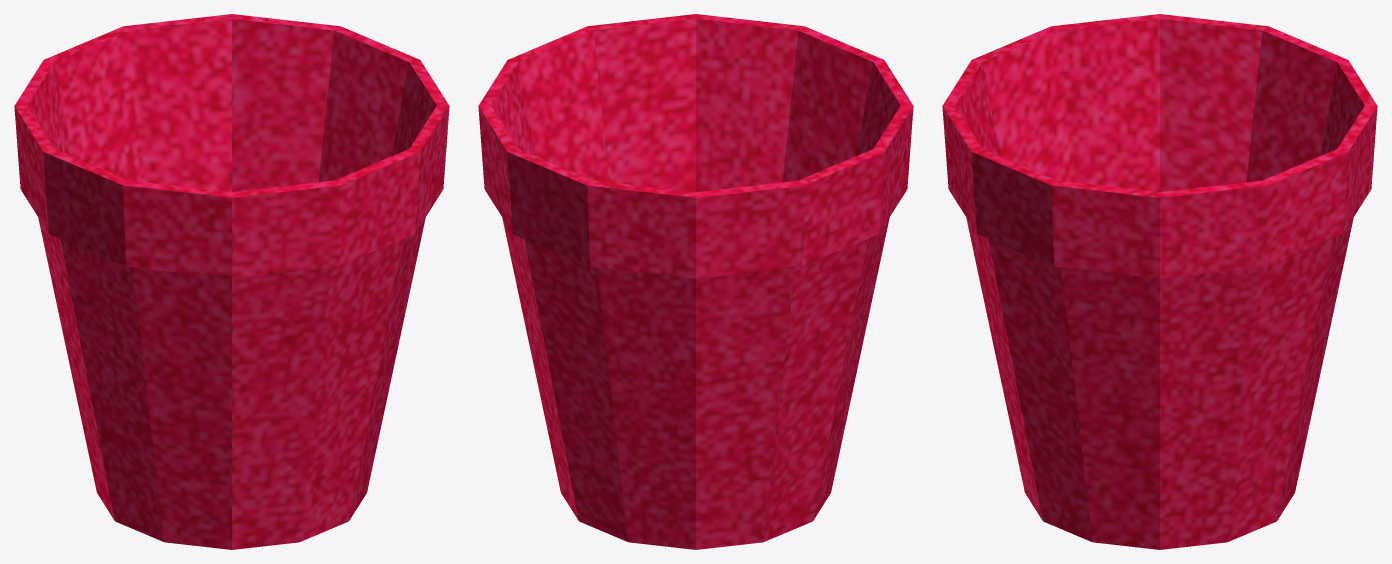
Rendered from Bucket.fbx.
3 renders of one model, left to right at view 1: azimuth 30°, elevation 25°; view 2: azimuth 150°, elevation 25°; view 3: azimuth 270°, elevation 25°, orthographic.
Parts seen in each view (by area): view 1: Bucket; view 2: Bucket; view 3: Bucket.
Boxes of the visible parts, bbox=[...] form: Bucket: bbox=[14, 14, 449, 549]; Bucket: bbox=[478, 14, 913, 549]; Bucket: bbox=[942, 14, 1377, 549].
Size of the model in its own units: 53.58 by 52.63 by 53.58.
